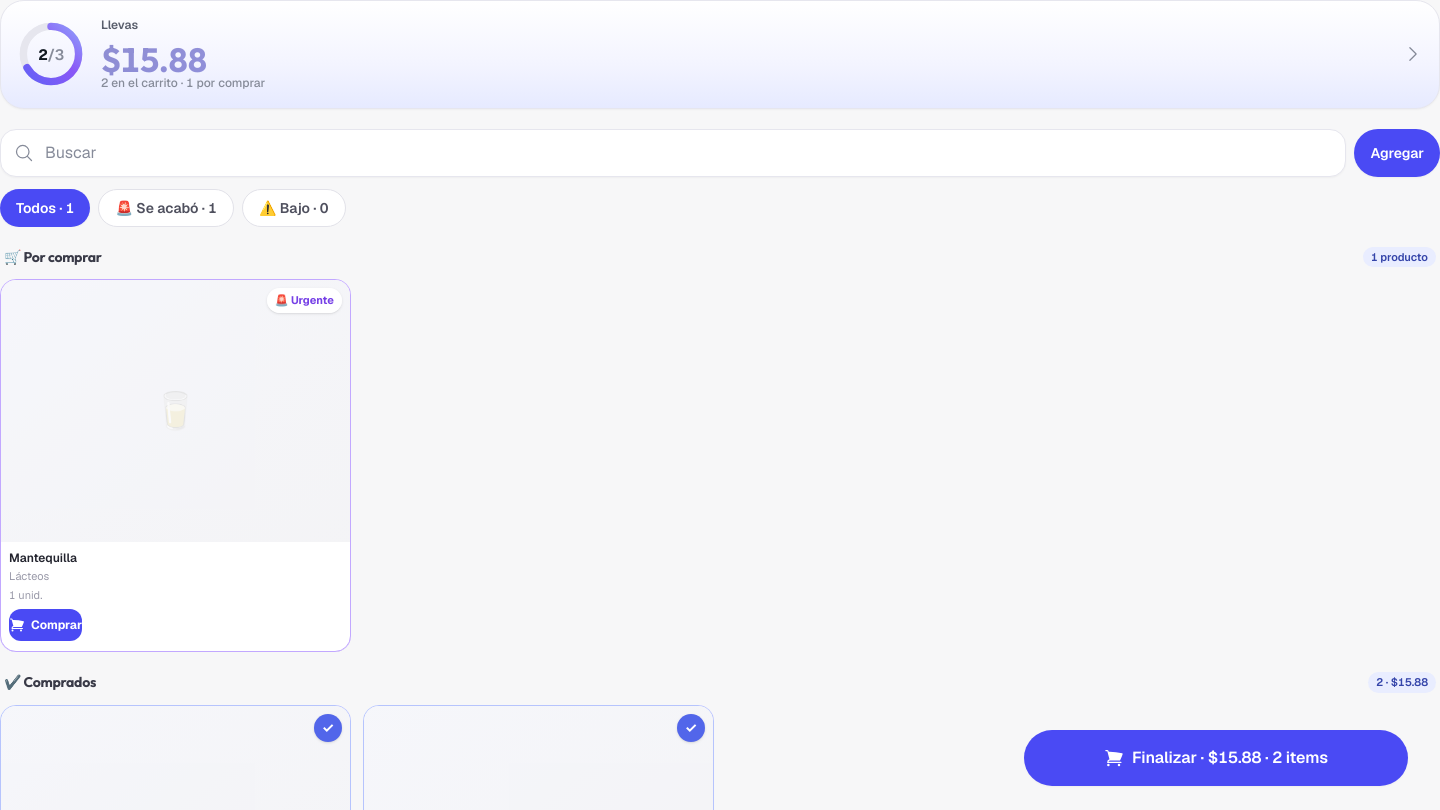
Test: SupermarketView · el carrito › desde la hoja se cierra la compra sin ir a buscar el botón flotante
Click the button with aria-label "Ver el carrito": (720, 54) [1,1,1439,108]
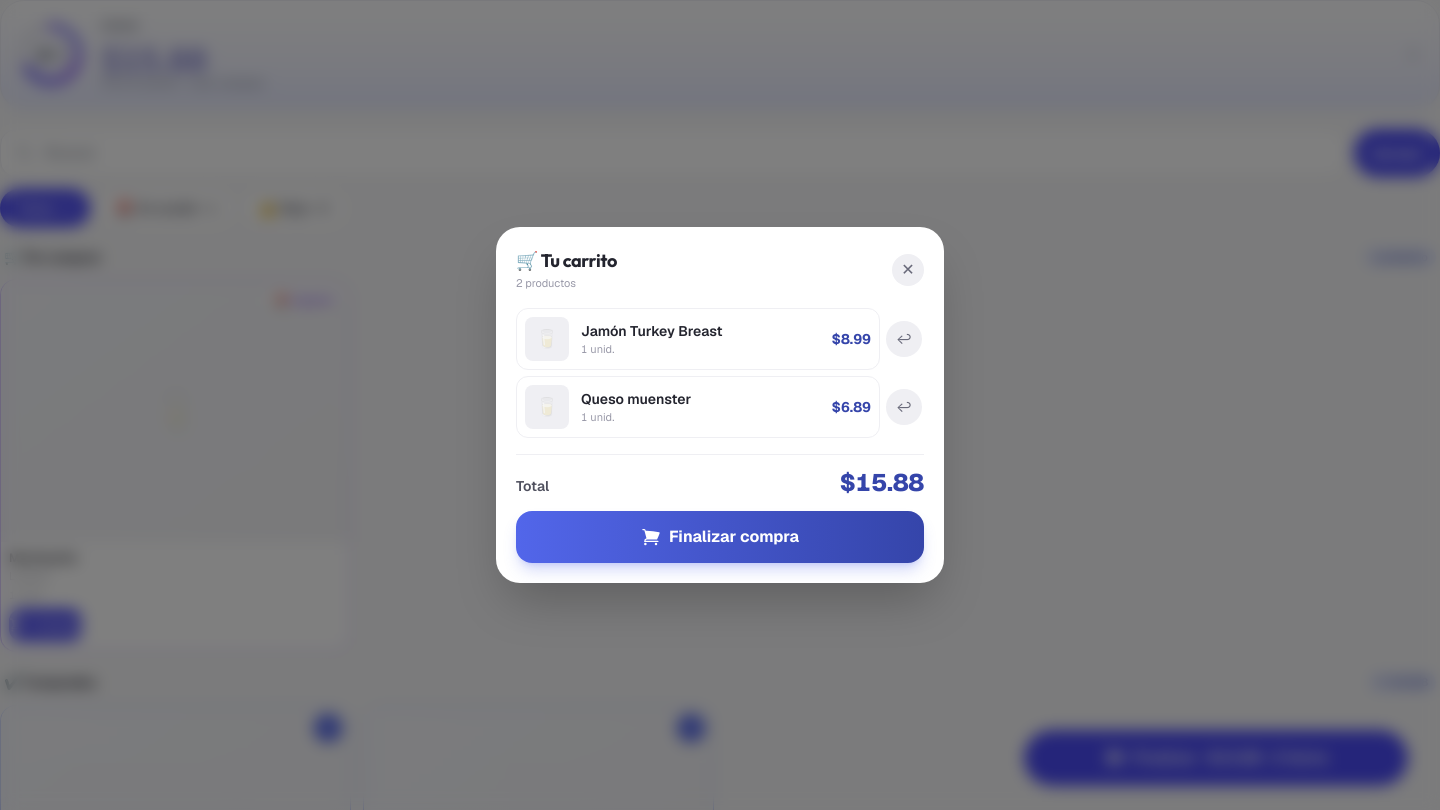
Click the button "Finalizar compra": (720, 537) [516,511,924,563]
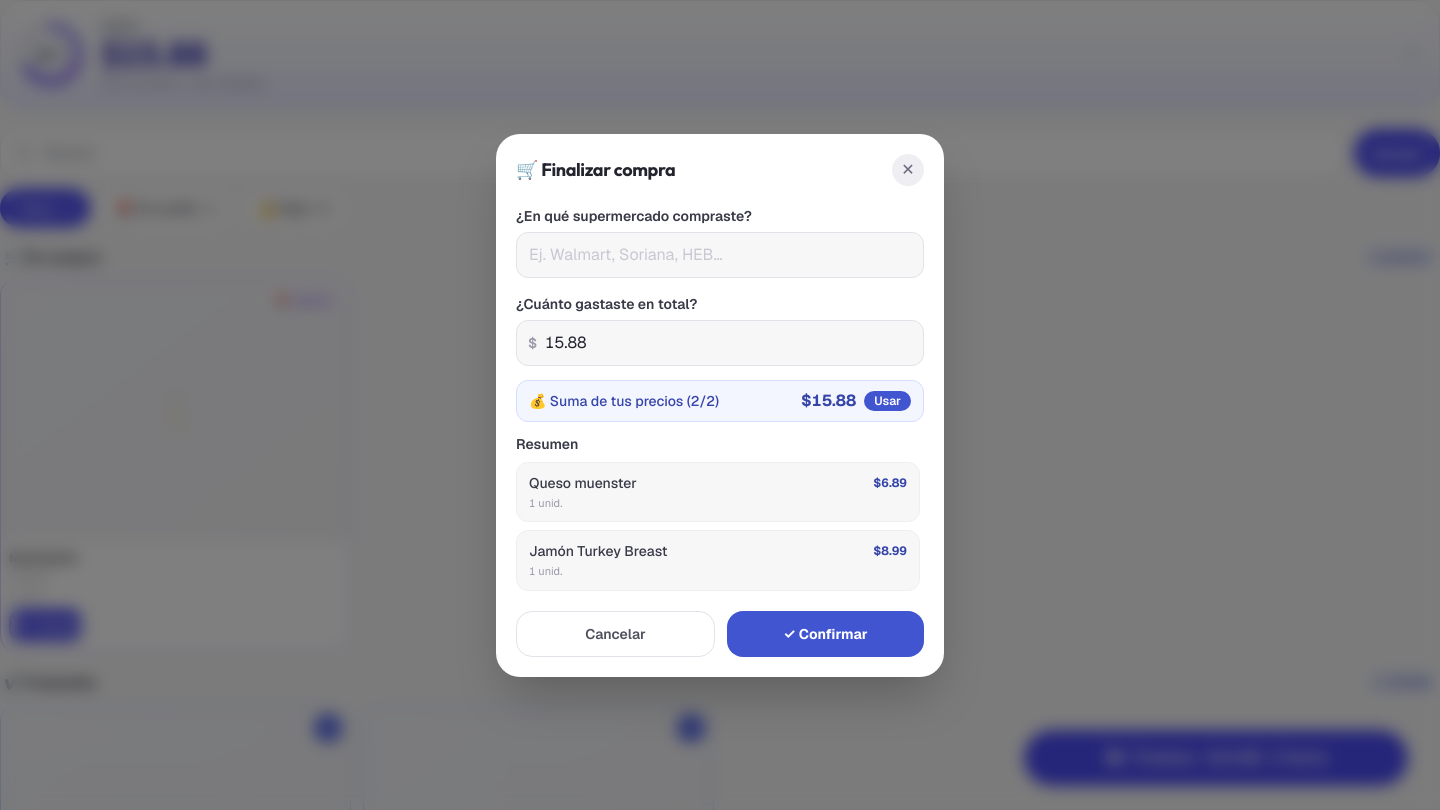
Expected: the heading "Tu carrito" is gone
Expected: the heading "🛒 Finalizar compra" is shown, [516,156,675,184]
Expected: the field labelled "¿Cuánto gastaste en total?" holds "15.88", [516,320,924,366]
